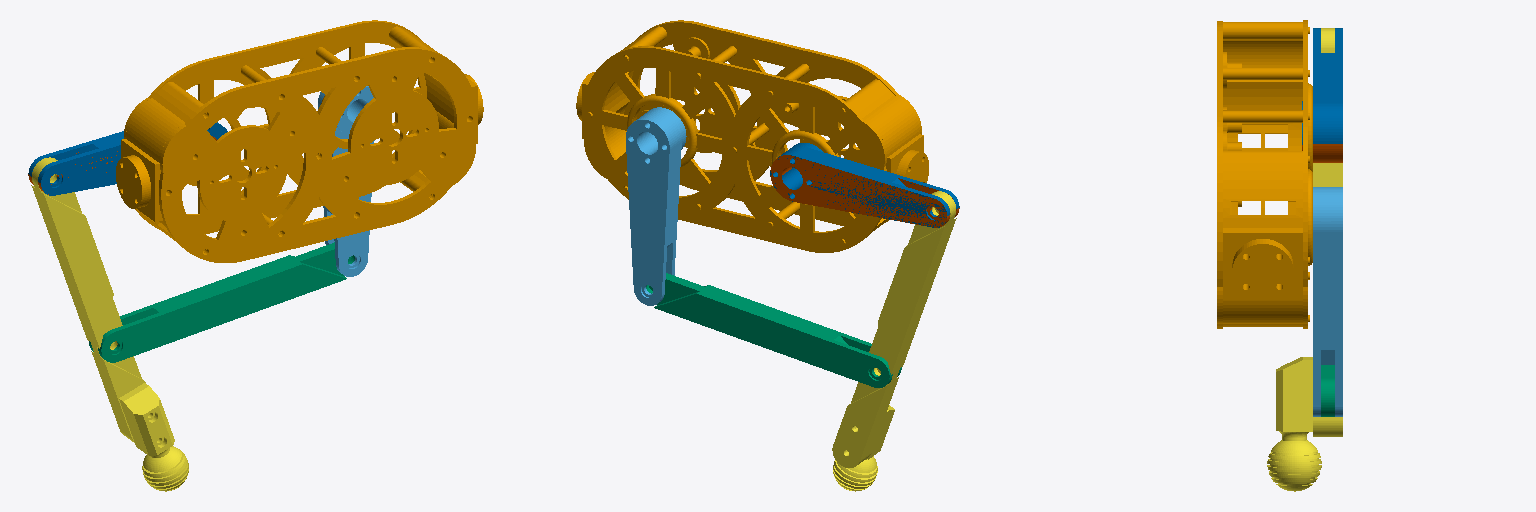
The robot description file, URDF, robot "single_leg":
<robot name="single_leg" version="1.0">
  <joint name="joint1" type="revolute">
    <limit lower="-3.14000" upper="3.14000" effort="0.00000" velocity="0.00000"/>
    <origin rpy="-1.57080 0.00000 0.00000" xyz="0.04100 0.01800 -0.00000"/>
    <parent link="link0_link"/>
    <child link="link1_link"/>
    <axis xyz="0.00000 0.00000 1.00000"/>
  </joint>
  <joint name="joint2" type="revolute">
    <limit lower="-3.14000" upper="3.14000" effort="0.00000" velocity="0.00000"/>
    <origin rpy="-0.00000 0.00000 0.00000" xyz="0.00001 0.07999 0.00825"/>
    <parent link="link1_link"/>
    <child link="link2_link"/>
    <axis xyz="0.00000 0.00000 1.00000"/>
  </joint>
  <joint name="joint3" type="revolute">
    <limit lower="-3.14000" upper="3.14000" effort="0.00000" velocity="0.00000"/>
    <origin rpy="-0.00000 0.00000 0.00000" xyz="-0.12919 0.01447 -0.00000"/>
    <parent link="link2_link"/>
    <child link="link3_link"/>
    <axis xyz="0.00000 0.00000 1.00000"/>
  </joint>
  <joint name="joint4" type="revolute">
    <limit lower="-3.14000" upper="3.14000" effort="0.00000" velocity="0.00000"/>
    <origin rpy="-0.00000 0.00000 0.00000" xyz="-0.03281 -0.09447 -0.00000"/>
    <parent link="link3_link"/>
    <child link="link4_link"/>
    <axis xyz="0.00000 0.00000 1.00000"/>
  </joint>
  <joint name="joint5" type="revolute">
    <limit lower="-3.14000" upper="3.14000" effort="0.00000" velocity="0.00000"/>
    <origin rpy="-1.57080 0.00000 0.00000" xyz="-0.04100 0.01800 0.00003"/>
    <parent link="link0_link"/>
    <child link="link4_dummy_link"/>
    <axis xyz="0.00000 0.00000 1.00000"/>
  </joint>
  <link name="link0_link">
    <visual name="link0">
      <origin rpy="0.00000 0.00000 0.00000" xyz="0.00000 0.00000 0.00000"/>
      <geometry>
        <mesh filename="../meshes/stl/link0.stl" scale="1.00000 1.00000 1.00000"/>
      </geometry>
    </visual>
  </link>
  <link name="link1_link">
    <inertial>
      <inertia ixx="0.00007" ixy="-0.00000" ixz="-0.00000" iyy="0.00007" iyz="0.00000" izz="0.00000"/>
      <origin rpy="0.00000 0.00000 0.00000" xyz="0.00001 0.02888 0.00660"/>
      <mass value="0.10000"/>
    </inertial>
    <visual name="link1">
      <origin rpy="1.57080 0.00000 0.00000" xyz="0.00000 0.00000 0.00000"/>
      <geometry>
        <mesh filename="../meshes/stl/link - up_arm-8.stl" scale="1.00000 1.00000 1.00000"/>
      </geometry>
    </visual>
  </link>
  <link name="link2_link">
    <inertial>
      <inertia ixx="0.00000" ixy="0.00000" ixz="0.00002" iyy="0.00016" iyz="-0.00000" izz="0.00015"/>
      <origin rpy="0.00000 0.00000 0.00000" xyz="-0.06461 0.00732 -0.00000"/>
      <mass value="0.10000"/>
    </inertial>
    <visual name="link2">
      <origin rpy="1.57080 0.00000 0.00000" xyz="-0.00000 -0.00000 0.00000"/>
      <geometry>
        <mesh filename="../meshes/stl/link - low_arm_rear-3.stl" scale="1.00000 1.00000 1.00000"/>
      </geometry>
    </visual>
  </link>
  <link name="link3_link">
    <inertial>
      <inertia ixx="0.00036" ixy="-0.00001" ixz="-0.00012" iyy="0.00040" iyz="-0.00004" izz="0.00005"/>
      <origin rpy="0.00000 0.00000 0.00000" xyz="-0.00036 -0.00045 -0.00380"/>
      <mass value="0.10000"/>
    </inertial>
    <visual name="link3">
      <origin rpy="1.57080 0.00000 0.00000" xyz="-0.00000 0.00000 0.00000"/>
      <geometry>
        <mesh filename="../meshes/stl/link - touch_part-2.stl" scale="1.00000 1.00000 1.00000"/>
      </geometry>
    </visual>
  </link>
  <link name="link4_dummy_link">
    <visual name="link4_dummy">
      <origin rpy="1.57080 0.00000 0.00000" xyz="-0.07999 0.00001 0.00825"/>
      <geometry>
        <mesh filename="../meshes/stl/link - up_arm-5.001.stl" scale="1.00000 1.00000 1.00000"/>
      </geometry>
    </visual>
  </link>
  <link name="link4_link">
    <inertial>
      <inertia ixx="0.00000" ixy="-0.00000" ixz="0.00000" iyy="0.00007" iyz="-0.00000" izz="0.00007"/>
      <origin rpy="0.00000 0.00000 0.00000" xyz="0.07999 -0.00001 -0.00825"/>
      <mass value="0.10000"/>
    </inertial>
    <visual name="link4">
      <origin rpy="1.57080 0.00000 0.00000" xyz="0.00000 0.00000 -0.00000"/>
      <geometry>
        <mesh filename="../meshes/stl/link - up_arm-5.stl" scale="1.00000 1.00000 1.00000"/>
      </geometry>
    </visual>
  </link>
</robot>

--- Render facts (derived) ---
Views: 3 orthographic renders of the robot side by side, from view 1: azimuth 30°, elevation 25°; view 2: azimuth 150°, elevation 25°; view 3: azimuth 270°, elevation 25°.
Robot: single_leg — 6 links, 5 joints (5 revolute); root link link0_link; default pose: all joints at 0.
Visible links, largest first — view 1: link0_link, link3_link, link2_link, link4_dummy_link, link1_link; view 2: link0_link, link3_link, link2_link, link1_link, link4_link, link4_dummy_link; view 3: link0_link, link3_link, link1_link, link4_dummy_link, link2_link, link4_link.
Boxes of the visible links, <box> form: link0_link: <box>116,20,483,262</box>; link3_link: <box>31,157,188,491</box>; link2_link: <box>89,242,354,362</box>; link4_dummy_link: <box>28,122,227,195</box>; link1_link: <box>318,86,374,276</box>; link0_link: <box>576,20,928,252</box>; link3_link: <box>832,191,956,491</box>; link2_link: <box>646,273,901,387</box>; link1_link: <box>626,107,686,305</box>; link4_link: <box>770,155,959,227</box>; link4_dummy_link: <box>770,143,959,227</box>; link0_link: <box>1217,20,1312,328</box>; link3_link: <box>1267,28,1342,491</box>; link1_link: <box>1313,187,1342,416</box>; link4_dummy_link: <box>1302,28,1342,144</box>; link2_link: <box>1321,365,1334,416</box>; link4_link: <box>1302,144,1342,162</box>.
Size in the robot's own frame: 0.2219 by 0.0508 by 0.2156 metres.
6 mesh visuals loaded from 6 distinct referenced files (6 binary STL).